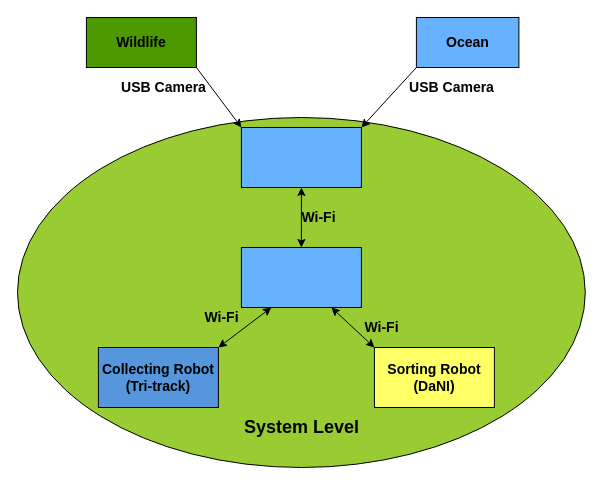
The diagram is 603 pixels wide and 485 high, and some of its shapes have lost their labels. The box of each missing label's shape, as (x1, y1, x2, y2) in pixels:
Eye in the Sky Pathing + Detect: (240, 126, 361, 188)
ROS Computer: (240, 246, 361, 308)
